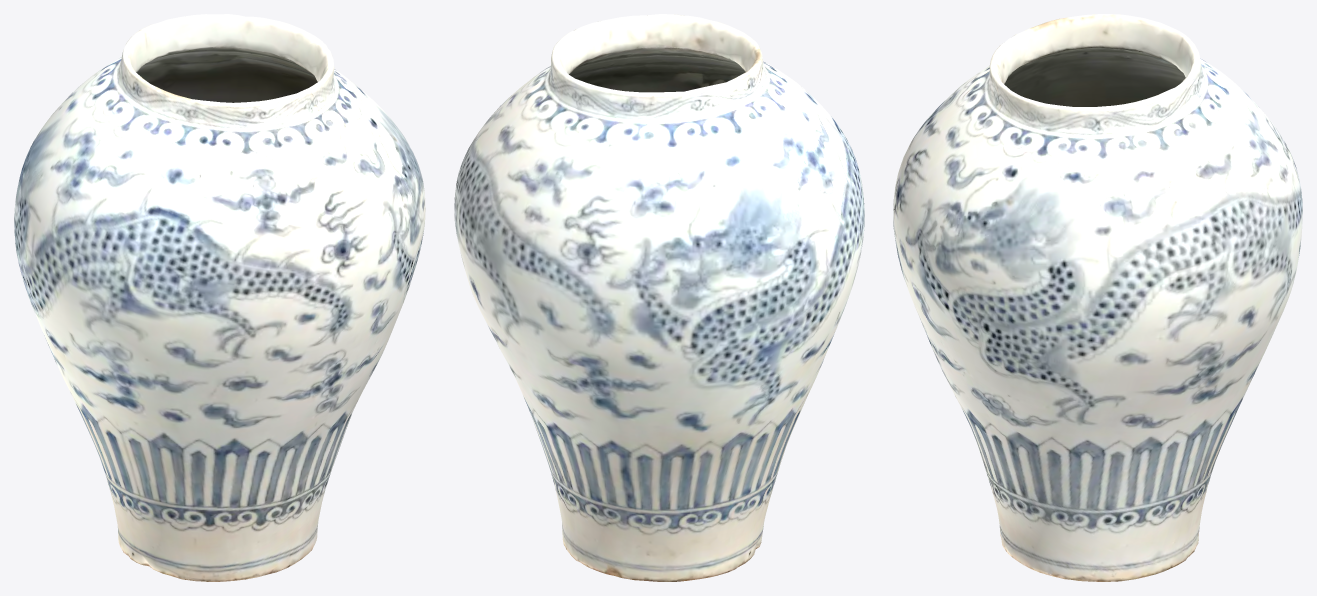
File: dragonjar.glb
The picture shows the model from 3 angles, left to right: view 1: azimuth 30°, elevation 25°; view 2: azimuth 150°, elevation 25°; view 3: azimuth 270°, elevation 25°; orthographic projection.
Visible parts, largest first — view 1: Object_2; view 2: Object_2; view 3: Object_2.
Boxes of the visible parts, <box> form: Object_2: <box>14,14,425,581</box>; Object_2: <box>454,14,864,581</box>; Object_2: <box>893,14,1302,581</box>.
Size of the model in its own units: 0.3014 by 0.395 by 0.2997.
1 material, 1 textured.
